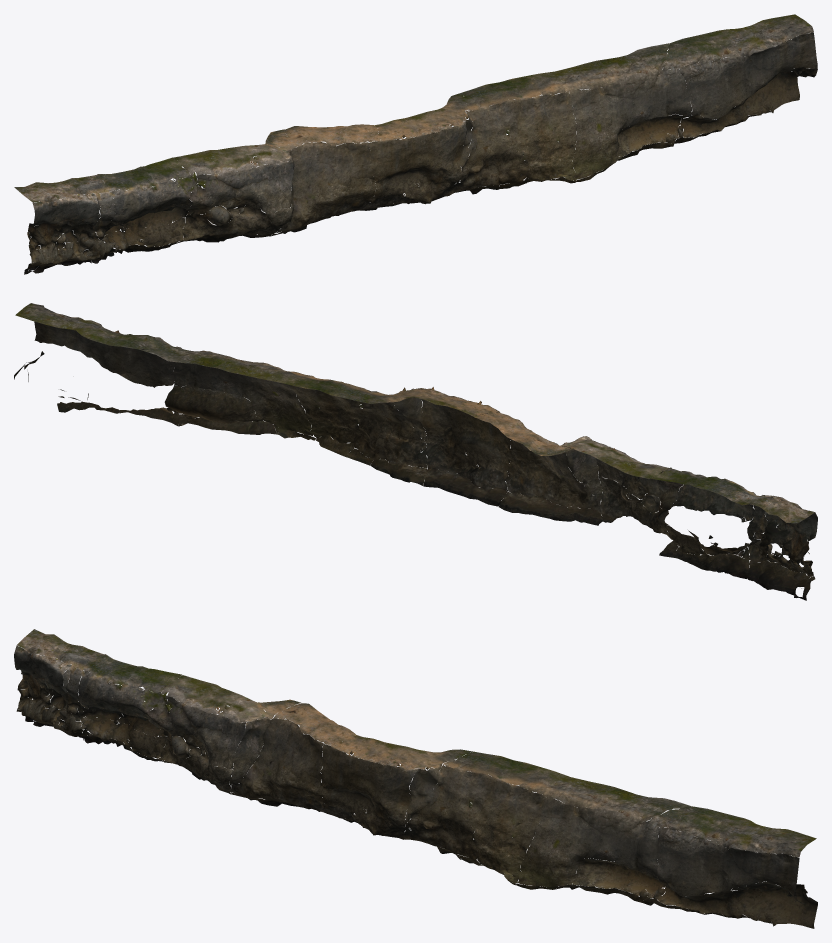
File: kf_cliff_a.glb
3 renders of one model, top to bottom at view 1: azimuth 30°, elevation 25°; view 2: azimuth 150°, elevation 25°; view 3: azimuth 330°, elevation 25°, orthographic. The views are drawn at different scales.
Visible parts, largest first — view 1: coastal_cliff_01; view 2: coastal_cliff_01; view 3: coastal_cliff_01.
Part boxes in pixels (x1,y1,x2,y2): coastal_cliff_01: (14,14,817,274); coastal_cliff_01: (14,303,817,600); coastal_cliff_01: (14,629,817,928).
Size of what is drawn, in the model's own units: 91.89 by 10.27 by 10.96.
1 material, 1 textured.
